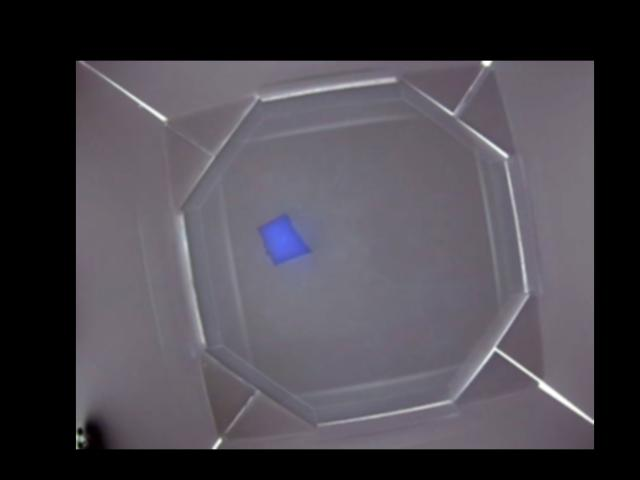Potato: (259, 215, 309, 268)
